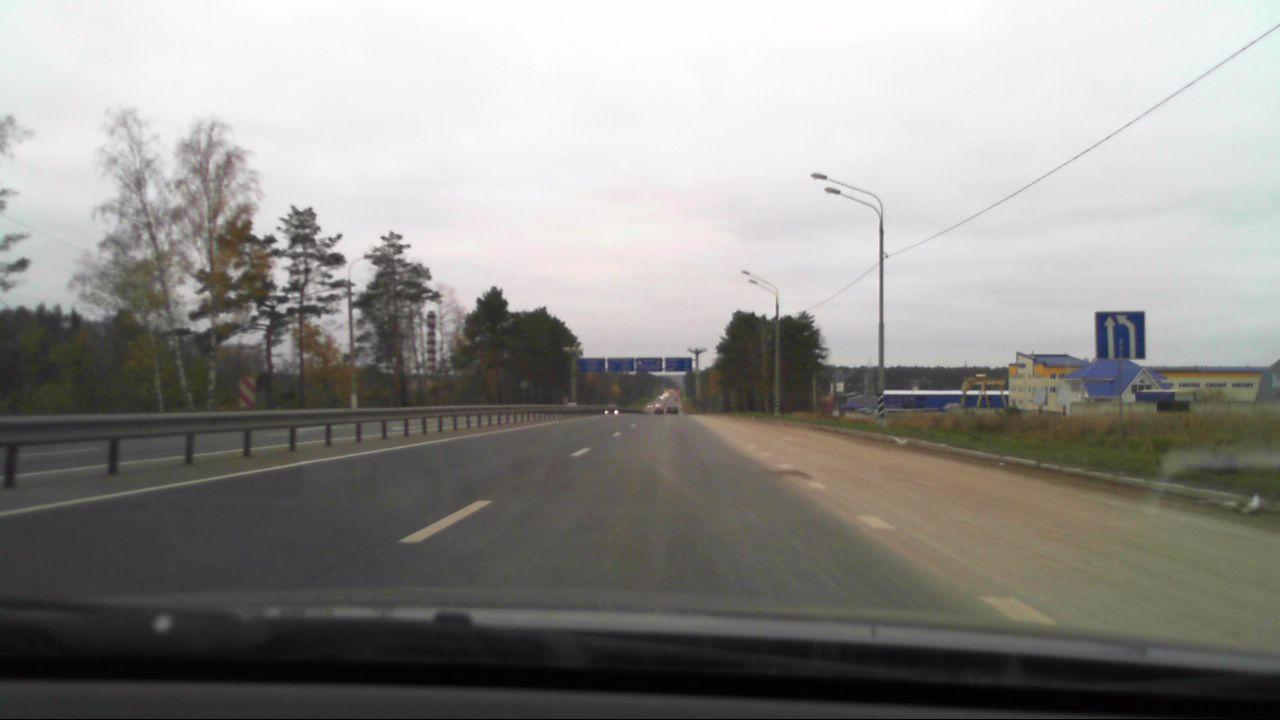5_15_5: (1095, 310, 1147, 359)
